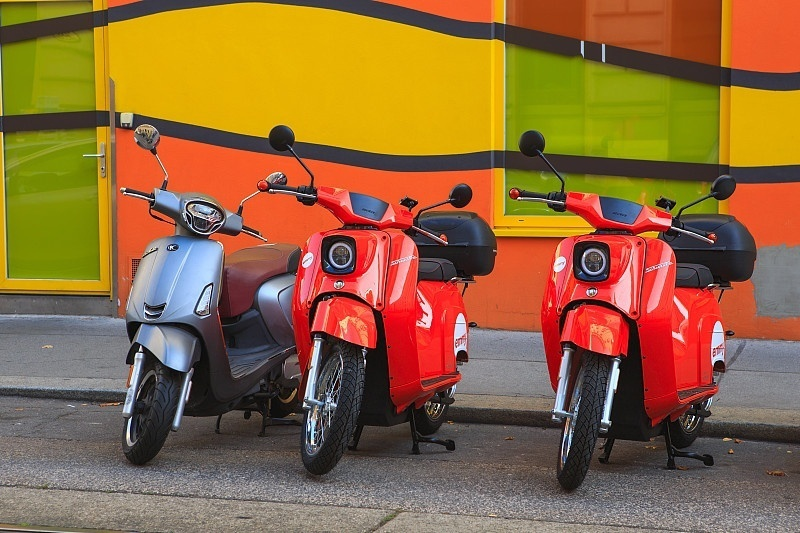non-vehicle: (527, 188, 753, 472), (115, 162, 278, 466), (294, 172, 433, 469)
